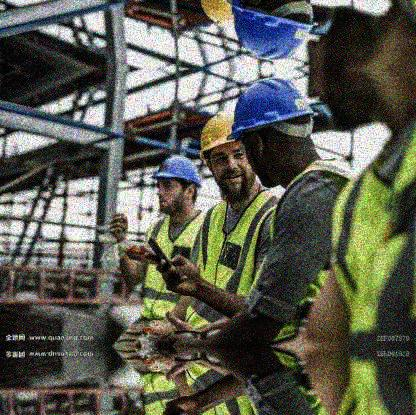helmet: (225, 76, 322, 187), (198, 111, 256, 199), (150, 155, 203, 215)
